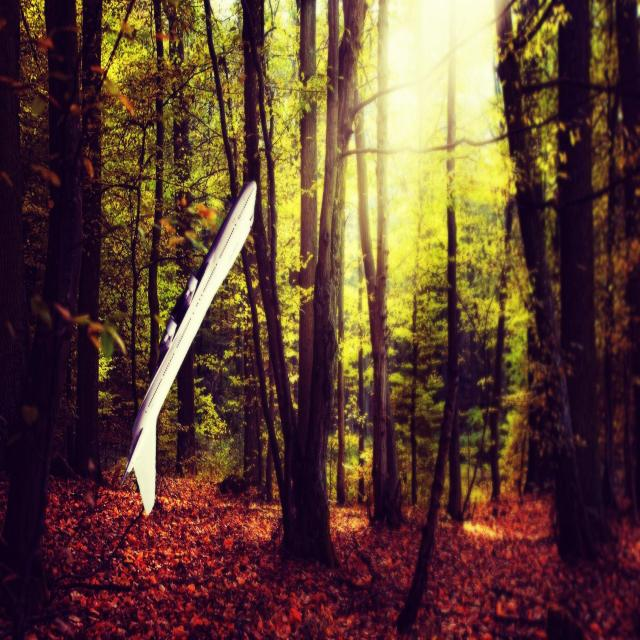airplane: (120, 178, 258, 516)
